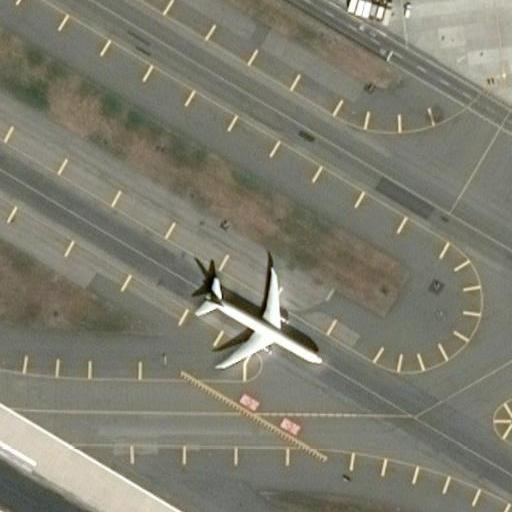Aircraft: (184, 252, 326, 370)
